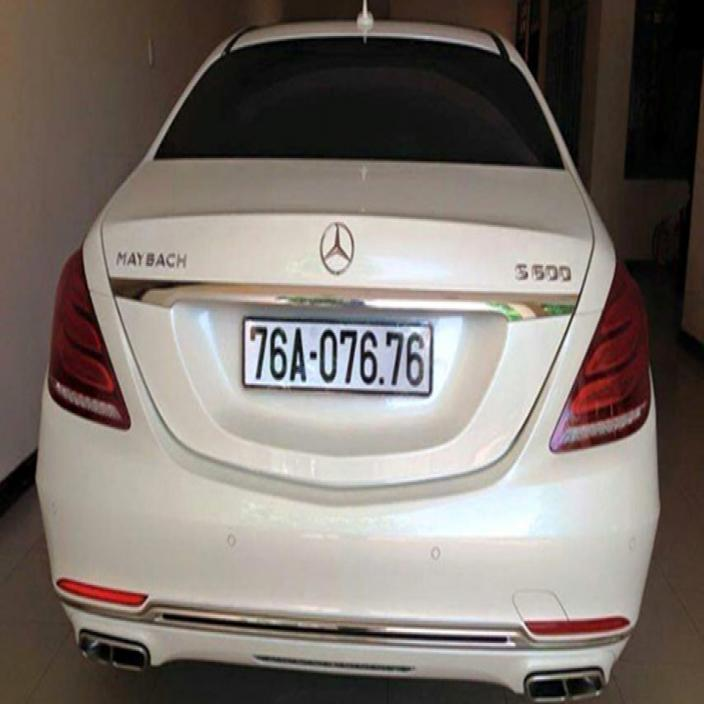numplate: (240, 310, 434, 400)
